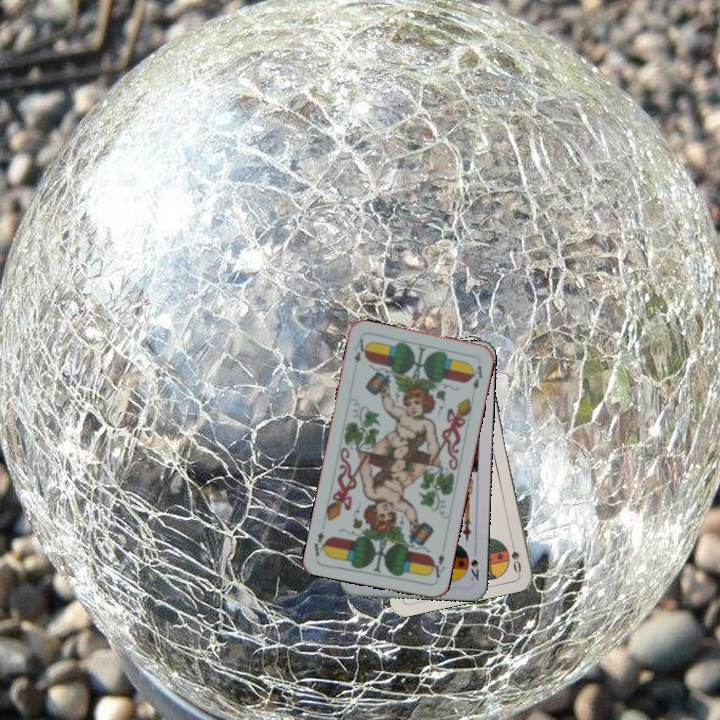EA: (426, 549, 448, 581), (350, 334, 370, 365)
SK: (466, 544, 481, 583)
SO: (507, 535, 524, 576)
